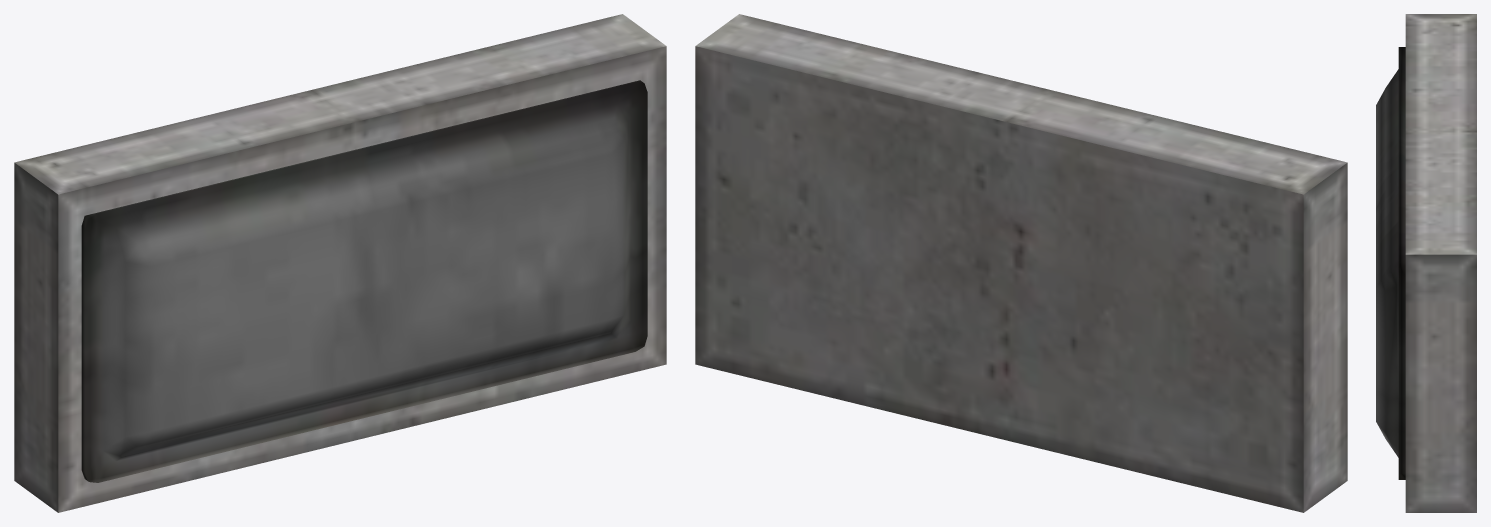
Rendered from backlit_sign_arrow_left_green.glb.
The picture shows the model from 3 angles, left to right: view 1: azimuth 30°, elevation 25°; view 2: azimuth 150°, elevation 25°; view 3: azimuth 270°, elevation 25°; orthographic projection. The views are drawn at different scales.
Parts seen in each view (by area): view 1: backlit_sign_arrow_left_LOD0; view 2: backlit_sign_arrow_left_LOD0; view 3: backlit_sign_arrow_left_LOD0.
Boxes of the visible parts, x1=… form: backlit_sign_arrow_left_LOD0: x1=14, y1=14, x2=666, y2=512; backlit_sign_arrow_left_LOD0: x1=695, y1=14, x2=1347, y2=512; backlit_sign_arrow_left_LOD0: x1=1376, y1=14, x2=1476, y2=512.
Size of the model in its own units: 0.5 by 0.25 by 0.0886.
1 material, 1 textured.
